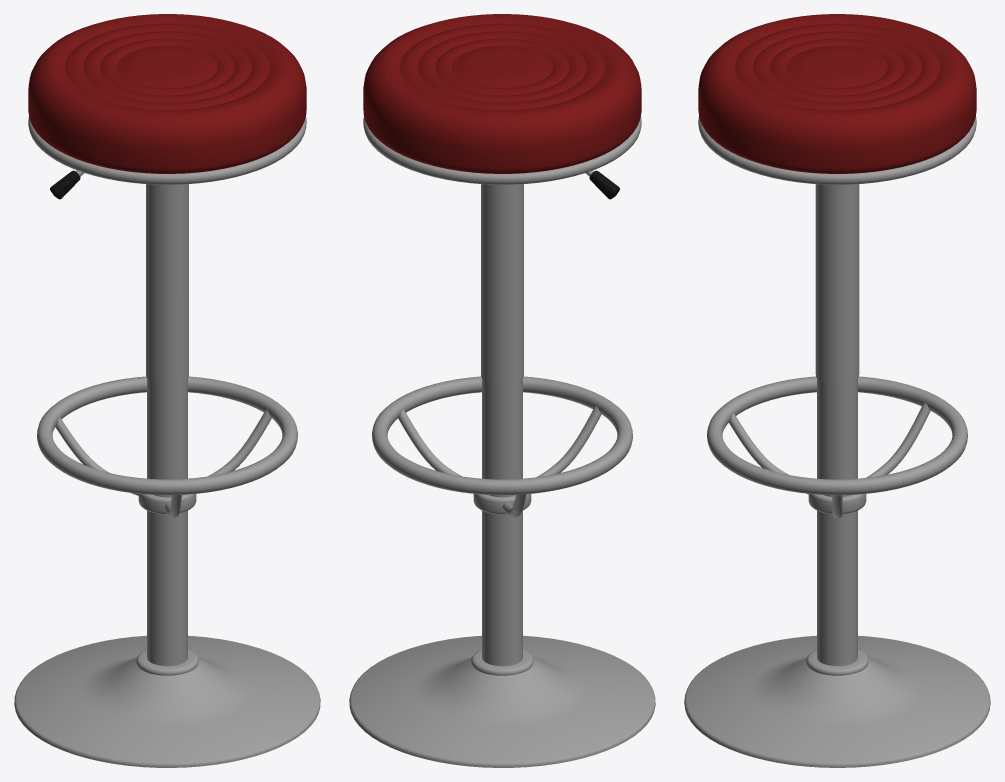
The model's file is Bar_Chair.glb.
3 views of the same model, side by side, from view 1: azimuth 30°, elevation 25°; view 2: azimuth 150°, elevation 25°; view 3: azimuth 270°, elevation 25° (orthographic).
Visible parts, largest first — view 1: SM_Bar_Chair; view 2: SM_Bar_Chair; view 3: SM_Bar_Chair.
Boxes of the visible parts, box(x1,y1,x2,y2) form: SM_Bar_Chair: box(14, 14, 320, 767); SM_Bar_Chair: box(349, 14, 655, 767); SM_Bar_Chair: box(684, 14, 990, 767).
Bounding box in the file's own units: 0.3617 × 0.8333 × 0.3617.
Materials: 1 (1 with a texture image).
